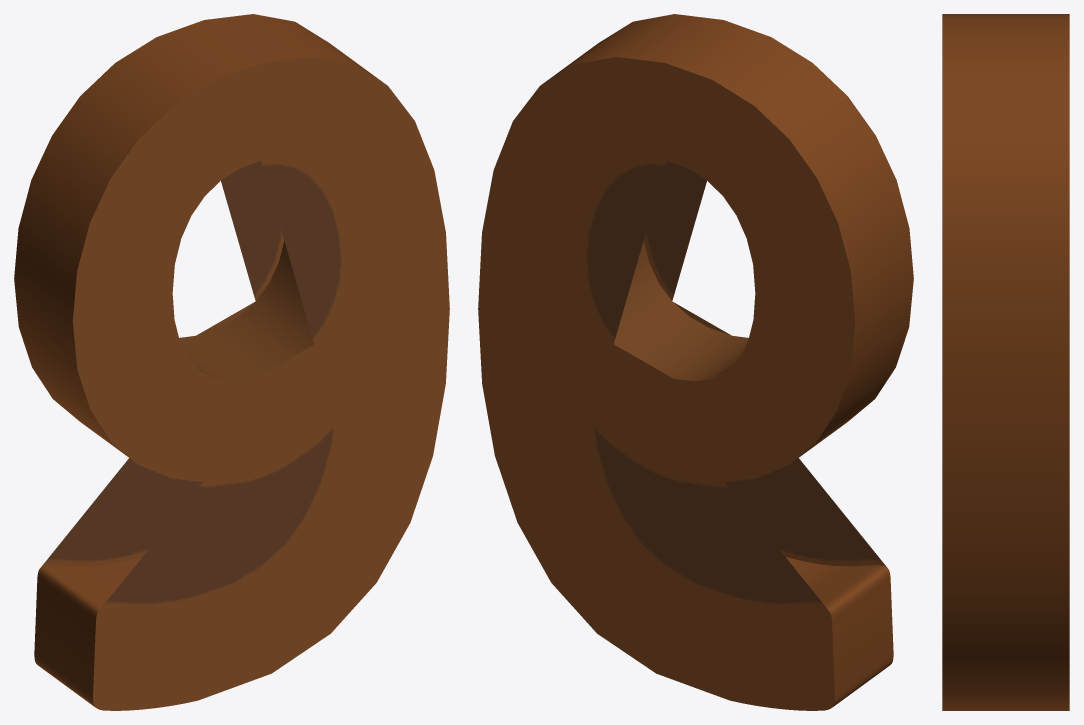
File: number_nine.FBX
3 renders of one model, left to right at view 1: azimuth 30°, elevation 25°; view 2: azimuth 150°, elevation 25°; view 3: azimuth 270°, elevation 25°, orthographic. The views are drawn at different scales.
Parts seen in each view (by area): view 1: number_nine; view 2: number_nine; view 3: number_nine.
Part boxes in pixels (left/top/right/bottom): number_nine: left=14, top=14, right=449, bottom=710; number_nine: left=478, top=14, right=913, bottom=710; number_nine: left=942, top=14, right=1069, bottom=710.
Size of the model in its own units: 25.07 by 39.5 by 6.75.
